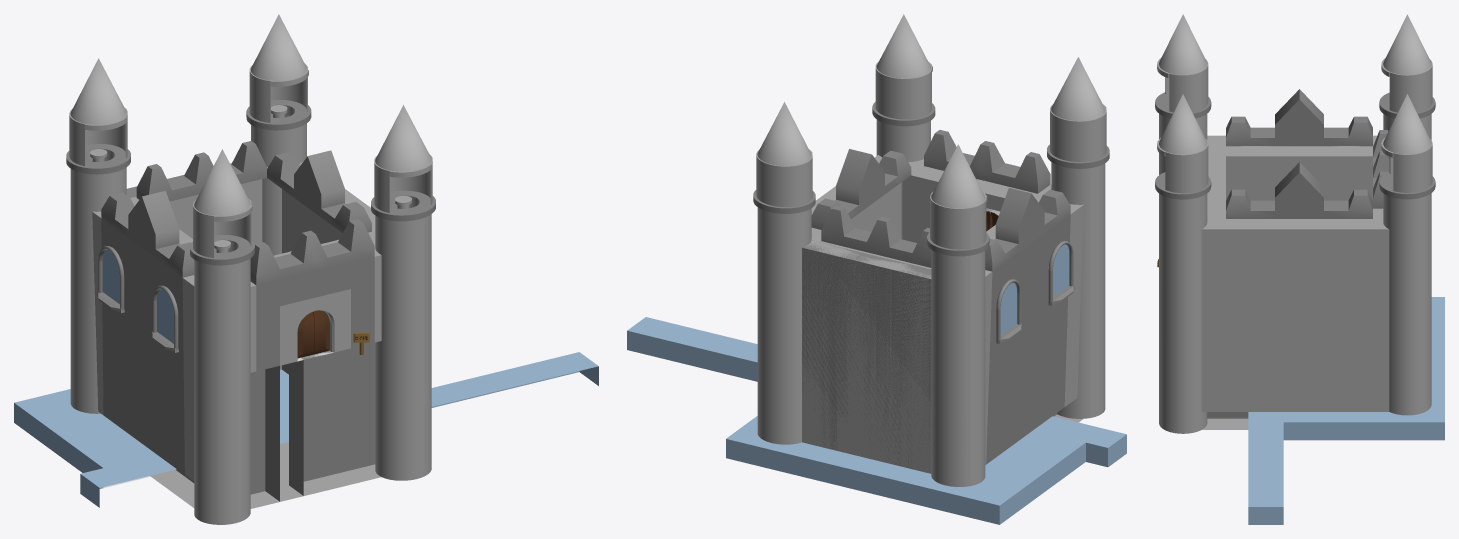
File: Kale.fbx
3 views of the same model, side by side, from view 1: azimuth 30°, elevation 25°; view 2: azimuth 150°, elevation 25°; view 3: azimuth 270°, elevation 25° (orthographic). The views are drawn at different scales.
Visible parts, largest first — view 1: Cube.005, deniz.001, Cube.003, Cube.004; view 2: Cube.005, deniz.001; view 3: Cube.005, deniz.001.
Boxes of the visible parts, bbox=[...] form: Cube.005: bbox=[66, 14, 435, 524]; deniz.001: bbox=[14, 352, 598, 507]; Cube.003: bbox=[297, 312, 314, 358]; Cube.004: bbox=[313, 310, 329, 354]; Cube.005: bbox=[753, 14, 1109, 486]; deniz.001: bbox=[627, 317, 1126, 524]; Cube.005: bbox=[1155, 14, 1435, 433]; deniz.001: bbox=[1248, 297, 1444, 524].
Size of the model in its own units: 25223 by 17601 by 14048.
